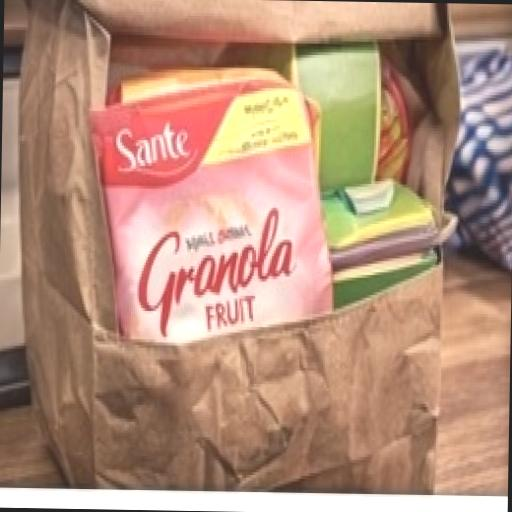granola: (76, 50, 350, 392)
